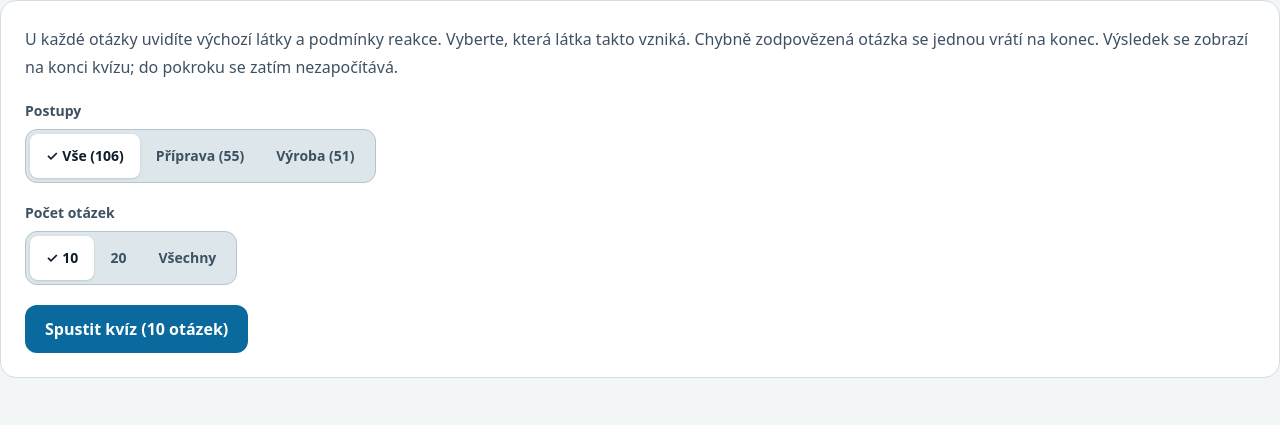
ProductionQuiz › stops early and returns to the settings
The image size is (1280, 425).
Click the button "Spustit kvíz (10 otázek)" at (137, 329), box [25, 305, 248, 353]
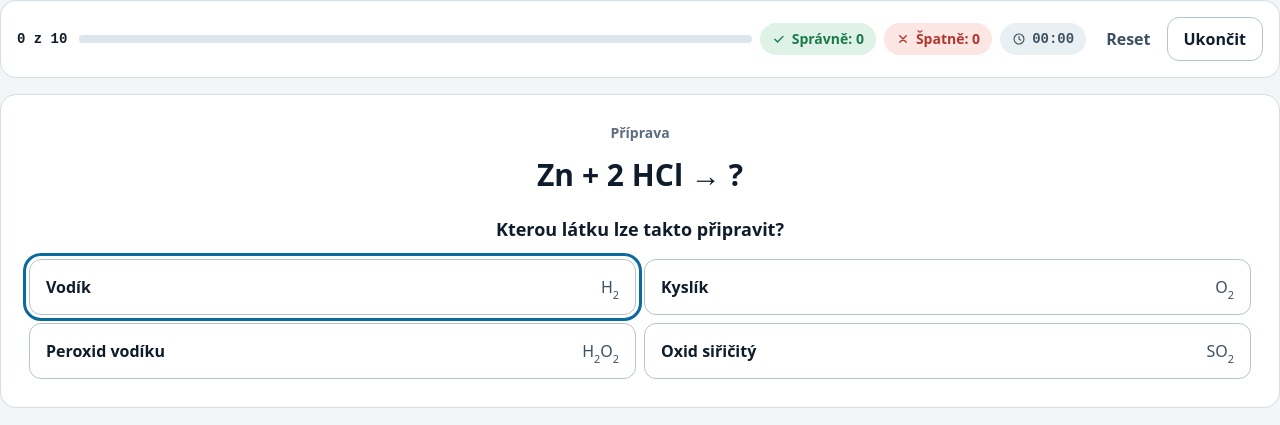
Click the button "Ukončit" at (1215, 39), box [1166, 17, 1263, 61]
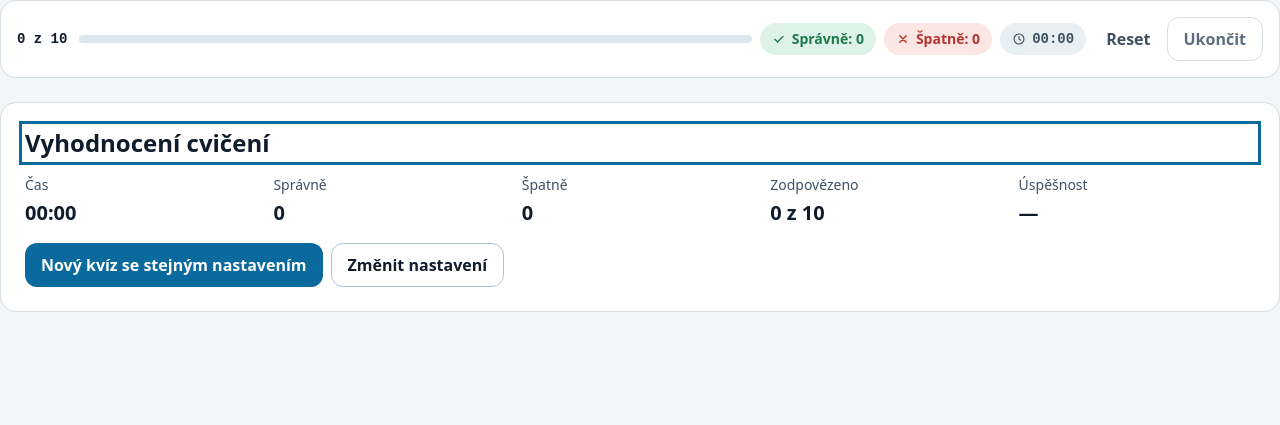
Expected: the heading "Vyhodnocení cvičení" is shown, [25, 126, 270, 159]
Click the button "Změnit nastavení" at (417, 265), box [330, 243, 504, 287]
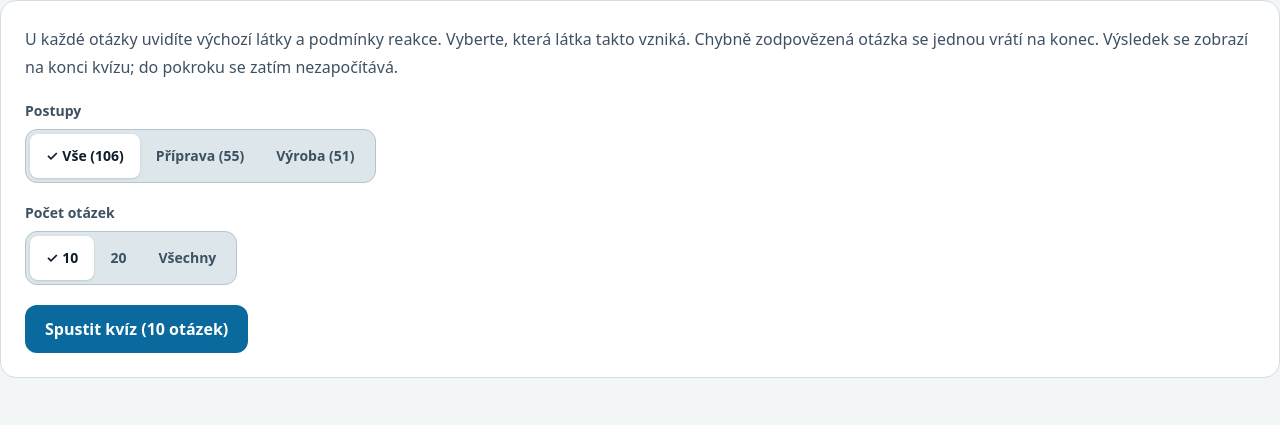
Expected: the element named "Nastavení kvízu" is shown
